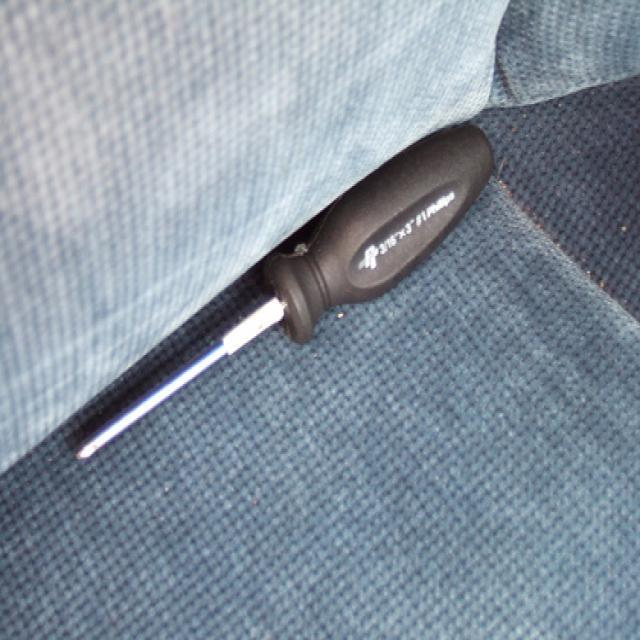screwdriver: (53, 106, 515, 482)
